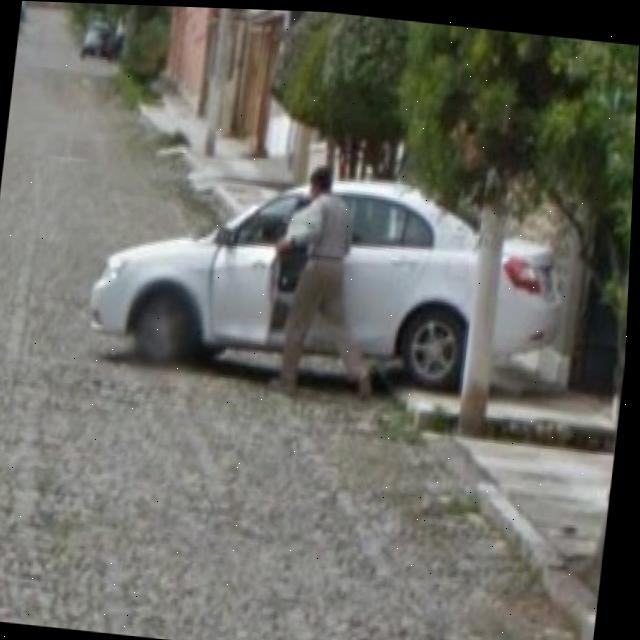vehicle: (85, 145, 581, 416)
